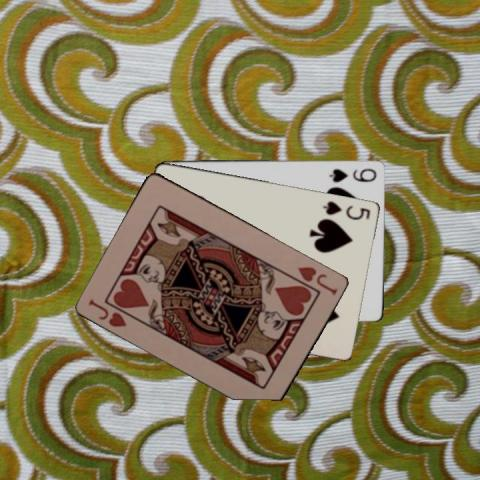5s: (320, 198, 372, 222)
9s: (327, 166, 378, 184)
Jh: (296, 263, 340, 297), (85, 295, 129, 329)
